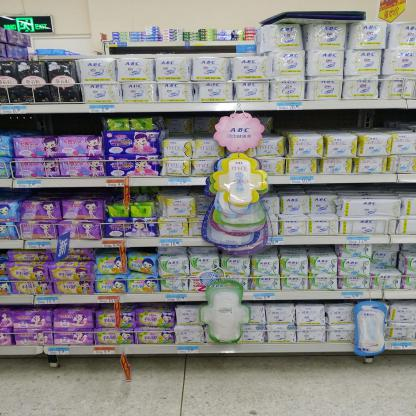Void: (265, 114, 408, 130), (7, 116, 100, 135), (168, 115, 218, 135), (109, 47, 233, 53)
